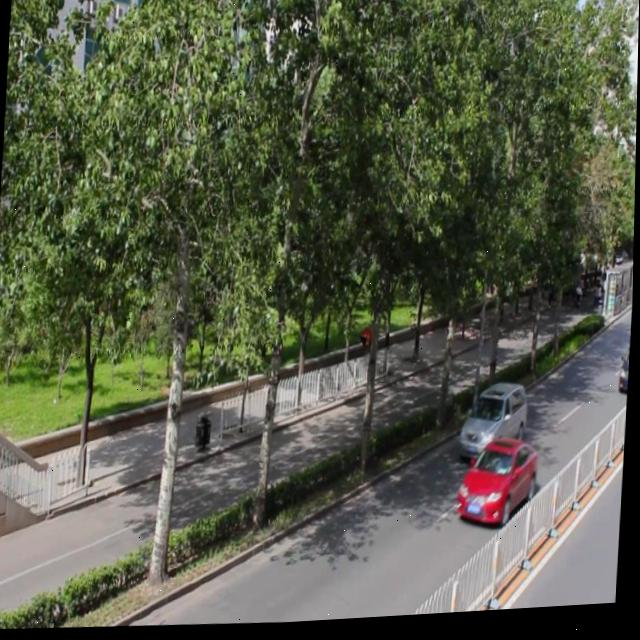car: (456, 439, 538, 535), (456, 384, 528, 466)
